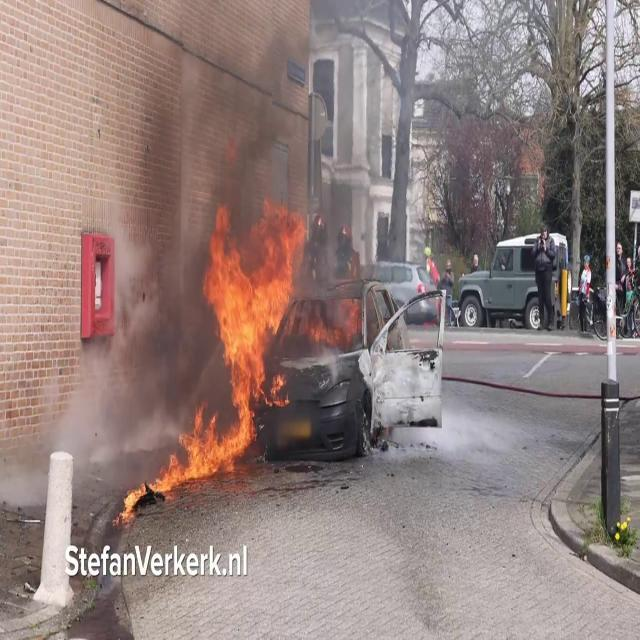Fire: (202, 200, 308, 444), (156, 404, 250, 497)
Smoke: (110, 1, 388, 300), (33, 284, 227, 503)
